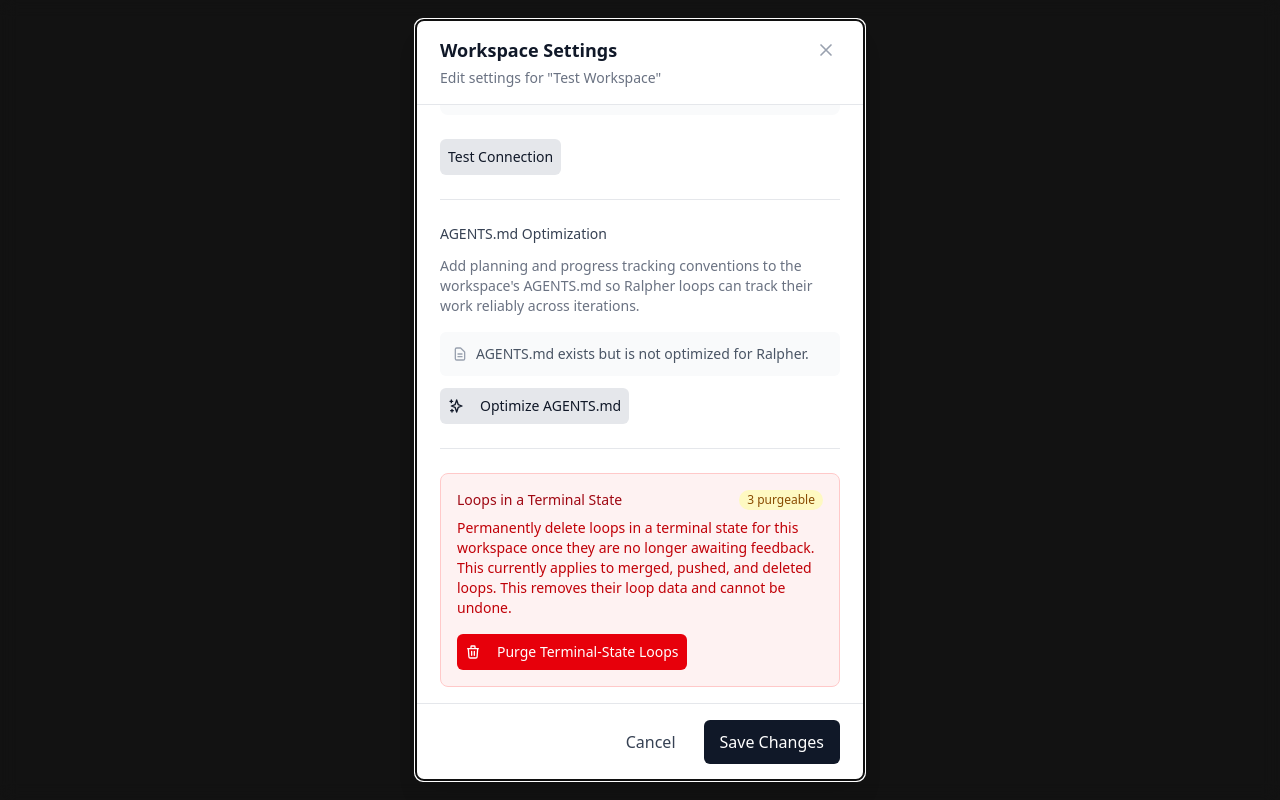
Test: WorkspaceSettingsModal terminal-state loop purge › shows purgeable terminal-state loop count and opens confirmation modal
(page scrolled)
Expected: the heading "Loops in a Terminal State" is shown, 457,490 -> 622,510
Expected: the text "3 purgeable" is shown, 739,490 -> 823,510
Step 1. Click the button "Purge Terminal-State Loops" → (572,652), box 457,634 -> 686,670
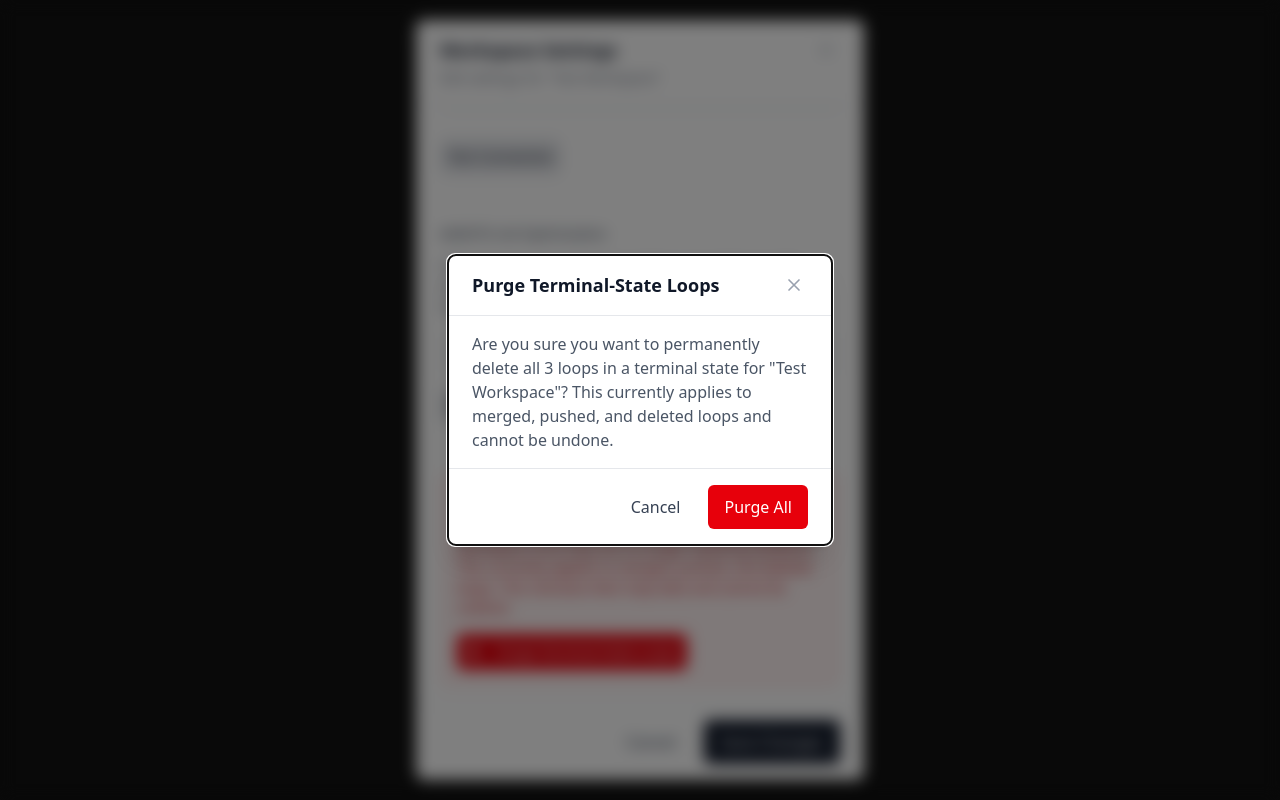
Result: the text "Are you sure you want to permanently delete all 3 loops in a terminal state for \"Test Workspace\"? This currently applies" is shown at 472,333 -> 806,451
